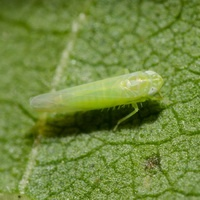insect: (30, 71, 162, 129)
